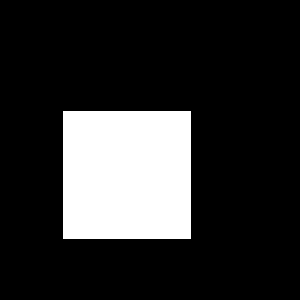circle: (63, 111, 191, 239), (104, 123, 161, 180)
